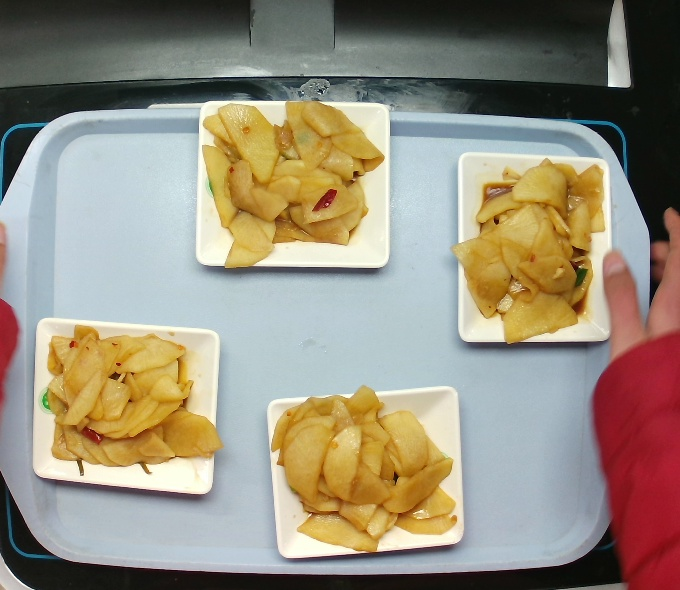wcq-YanLuoBo: (190, 88, 389, 263), (274, 379, 452, 563), (457, 156, 618, 344), (31, 329, 219, 481)
